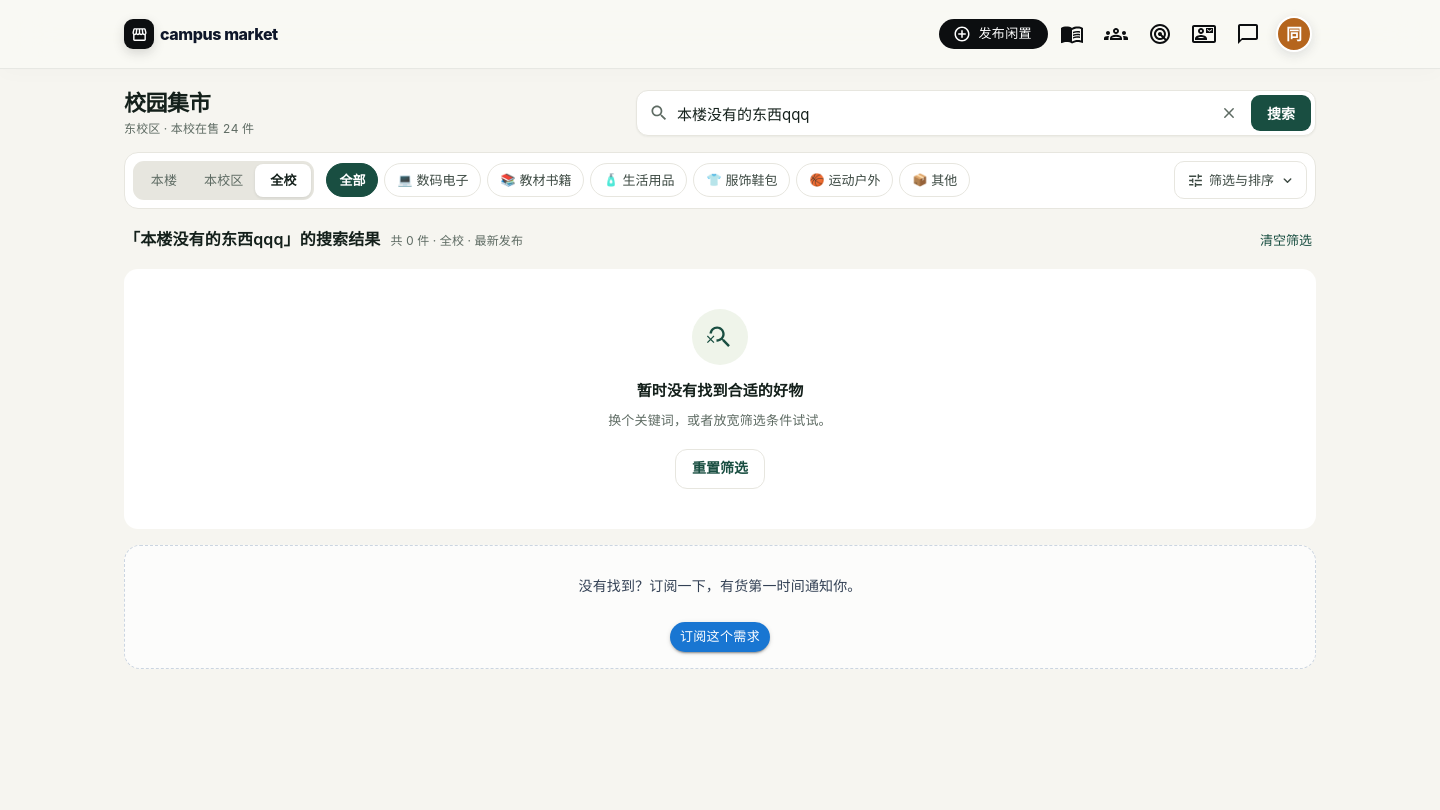
Test: 2.5 搜索空态订阅入口 › 4. 选择「本楼」时预填 canonical 的 BUILDING 范围，而不是展示文案
Click the radio button labelled "本楼" at (164, 180), box x1=151 y1=172 x2=177 y2=188
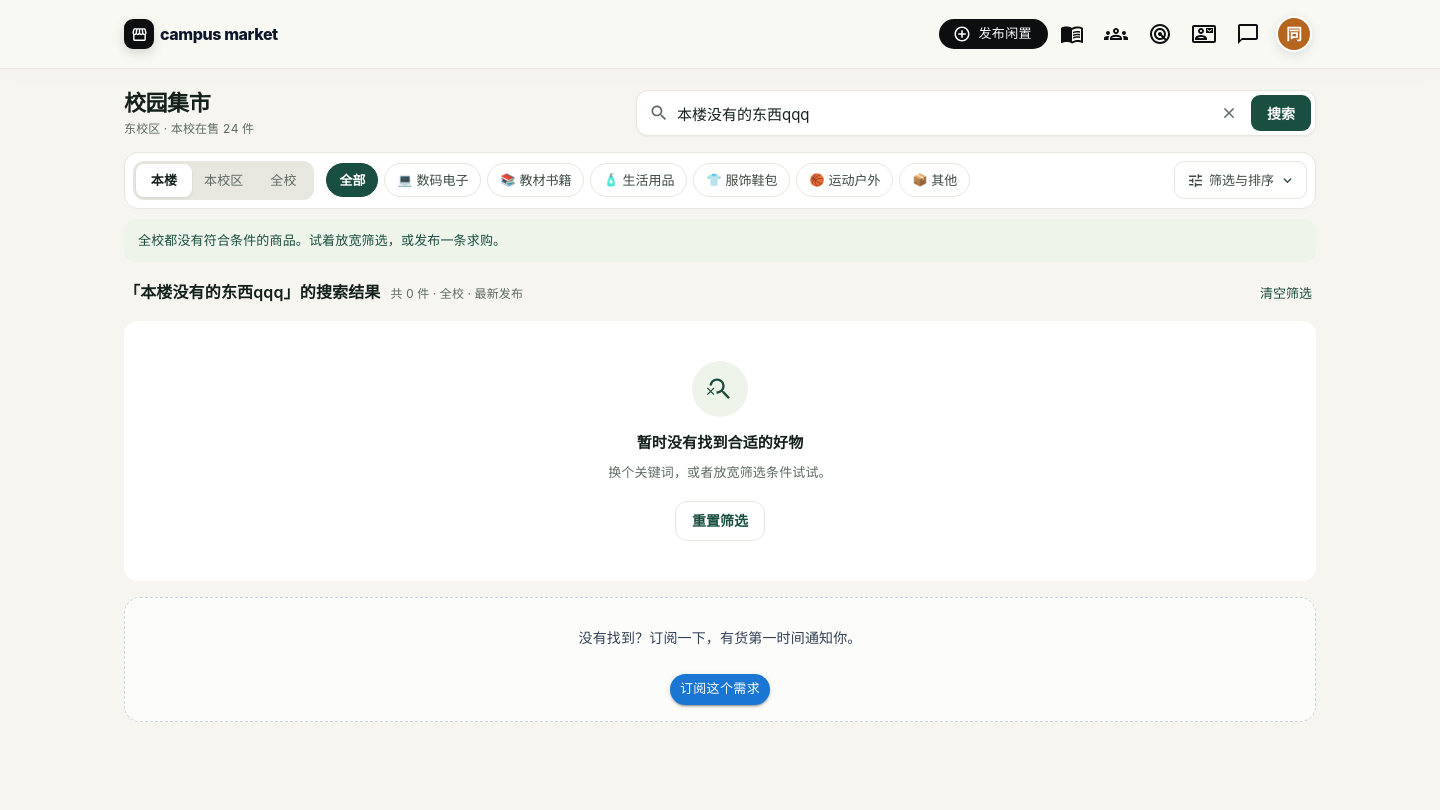
Click the button "订阅这个需求" at (720, 690), box x1=670 y1=674 x2=770 y2=705
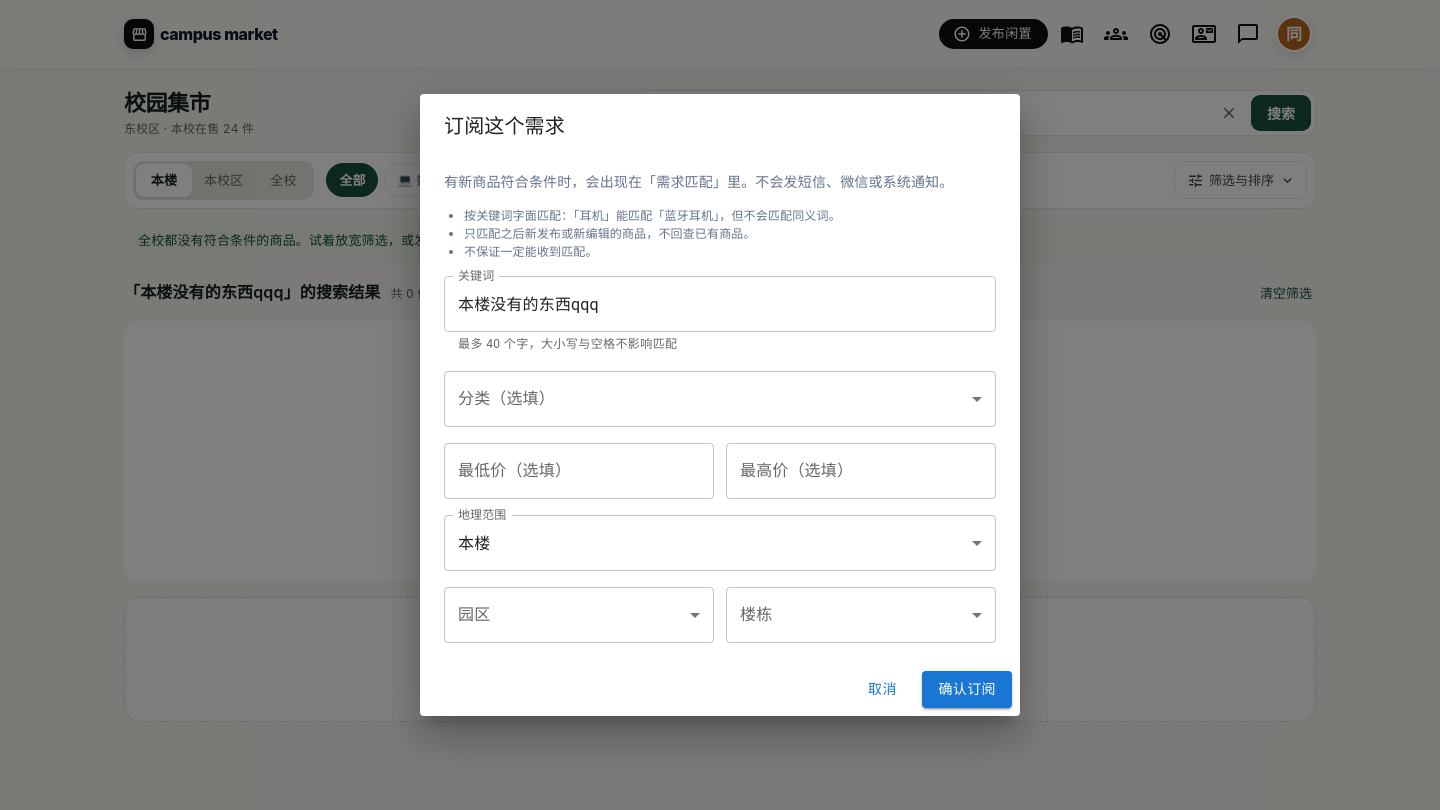
Click the button "确认订阅" at (967, 689), box x1=922 y1=671 x2=1012 y2=708
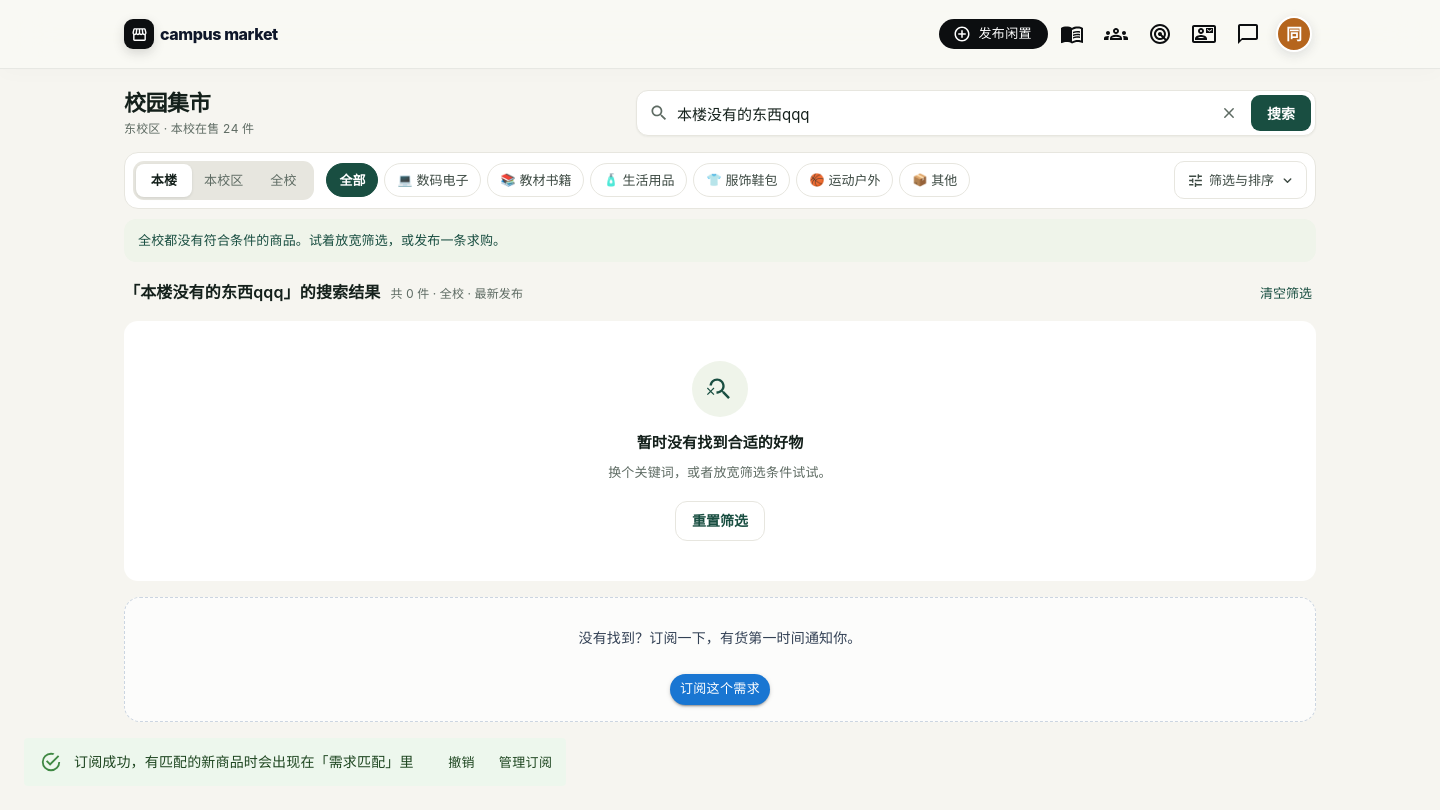
expect the text "订阅成功，有匹配的新商品时会出现在「需求匹配」里" is shown: met, box x1=74 y1=754 x2=414 y2=770
